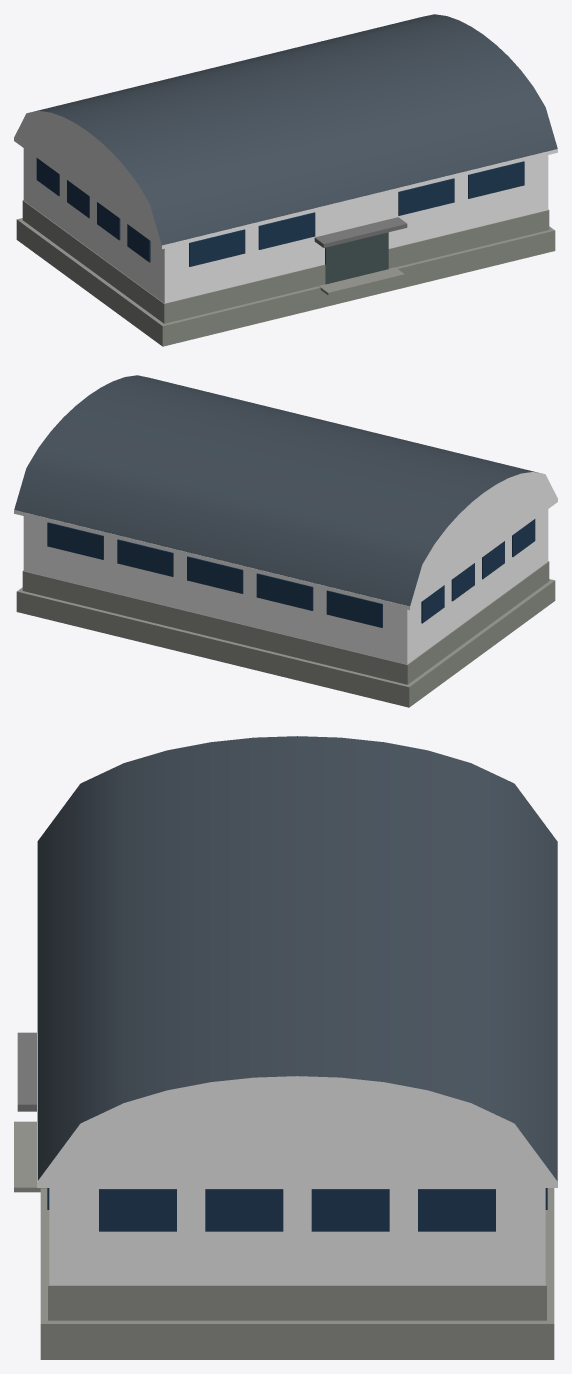
The model's file is mashup-gym-top-prebuilt.fbx.
The picture shows the model from 3 angles, top to bottom: view 1: azimuth 30°, elevation 25°; view 2: azimuth 150°, elevation 25°; view 3: azimuth 270°, elevation 25°; orthographic projection. The views are drawn at different scales.
Parts seen in each view (by area): view 1: a200.Gym; view 2: a200.Gym; view 3: a200.Gym.
Boxes of the visible parts, left/top/right/bottom form: a200.Gym: left=14, top=14, right=557, bottom=346; a200.Gym: left=14, top=375, right=557, bottom=707; a200.Gym: left=14, top=736, right=557, bottom=1359.
Bounding box in the file's own units: 22.7 × 8.88 × 15.35.
